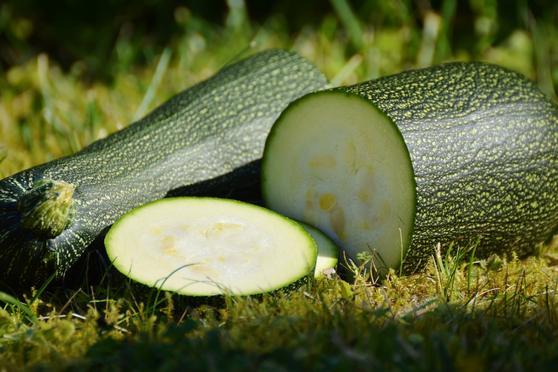zucchini: (2, 41, 326, 261)
